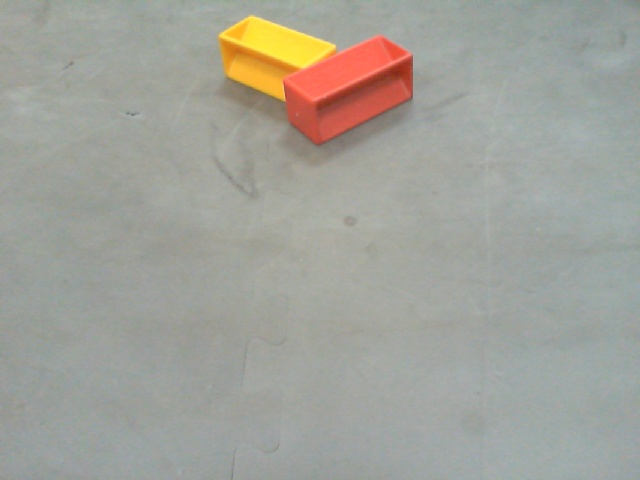RedSample: (280, 34, 413, 146)
YellowSample: (221, 13, 337, 98)
